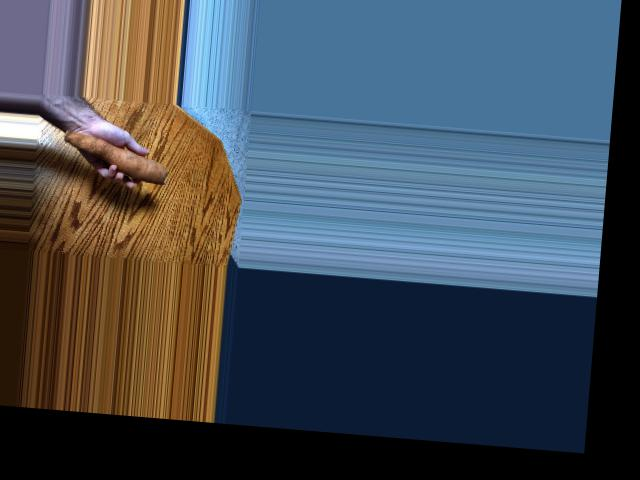sweet_potato: (63, 127, 170, 188)
